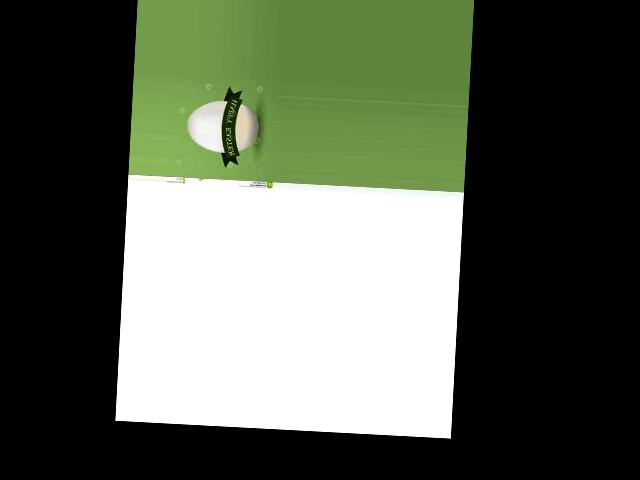egg: (186, 99, 260, 155)
